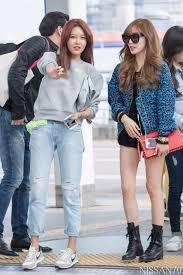pants: (24, 119, 88, 240), (0, 106, 33, 240)
sweater: (28, 56, 114, 127), (104, 51, 170, 140)
